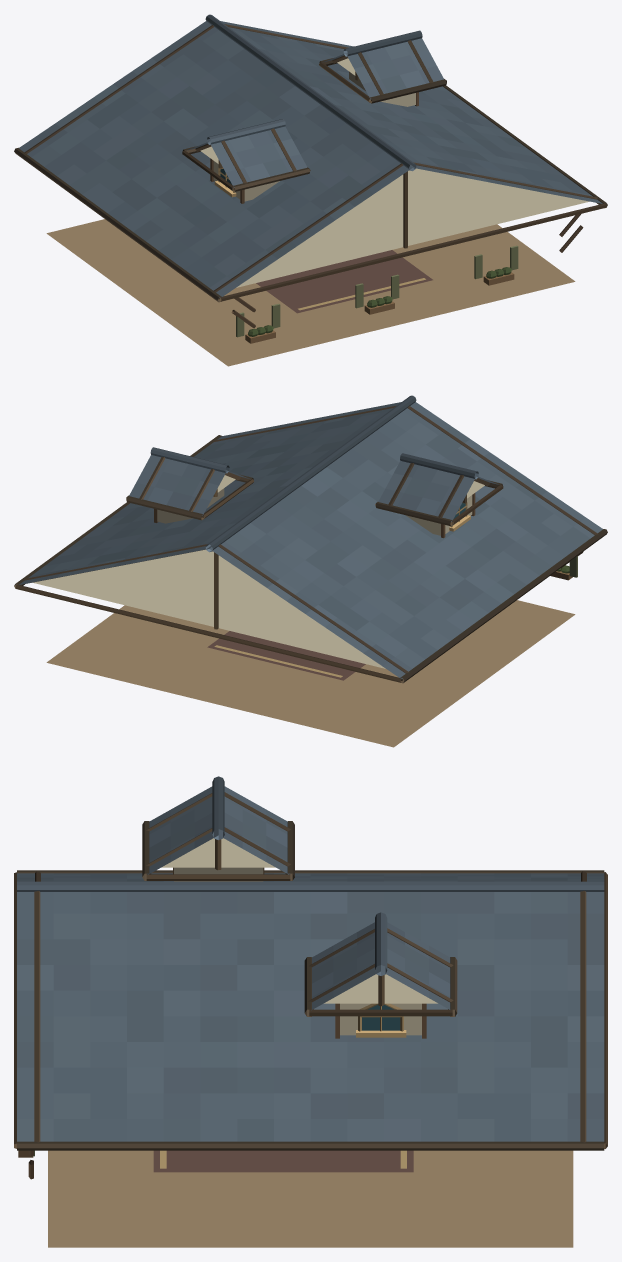
3 views of the same model, one above another, from view 1: azimuth 30°, elevation 25°; view 2: azimuth 150°, elevation 25°; view 3: azimuth 270°, elevation 25° (orthographic). The views are drawn at different scales.
Parts seen in each view (by area): view 1: c56f2059ab19ba05901547333988eda42eca3117c6b466192253c62c97f7; view 2: c56f2059ab19ba05901547333988eda42eca3117c6b466192253c62c97f7; view 3: c56f2059ab19ba05901547333988eda42eca3117c6b466192253c62c97f7.
Part boxes in pixels (x1=…): c56f2059ab19ba05901547333988eda42eca3117c6b466192253c62c97f7: x1=14, y1=14, x2=607, y2=366; c56f2059ab19ba05901547333988eda42eca3117c6b466192253c62c97f7: x1=14, y1=395, x2=607, y2=747; c56f2059ab19ba05901547333988eda42eca3117c6b466192253c62c97f7: x1=14, y1=776, x2=607, y2=1247.
Bounding box in the file's own units: 12.02 × 5.19 × 10.97.
6 materials, 1 textured.
